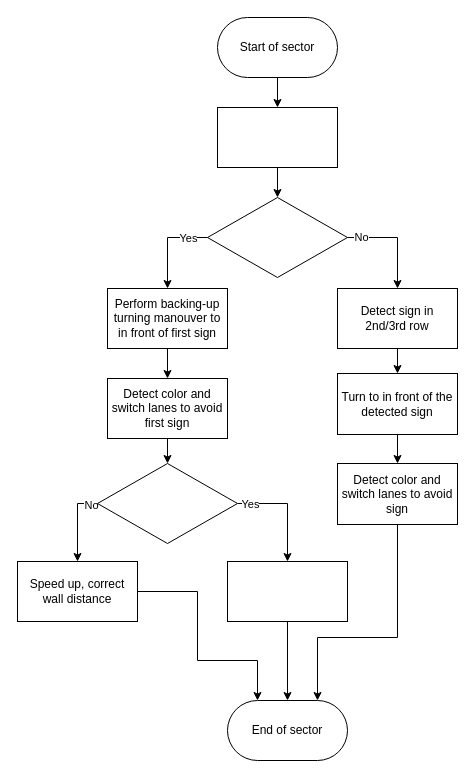
This 475x778 diagram has some shape labels left out. Each missing label, with the box of its shape:
Detect color and switch lanes to avoid sign in 3rd row: (226, 560, 348, 622)
Is there a sign in the 3rd row?: (96, 462, 238, 544)
Is there an obstacle in the first row?: (206, 196, 348, 278)
Slow down: (216, 106, 338, 168)
